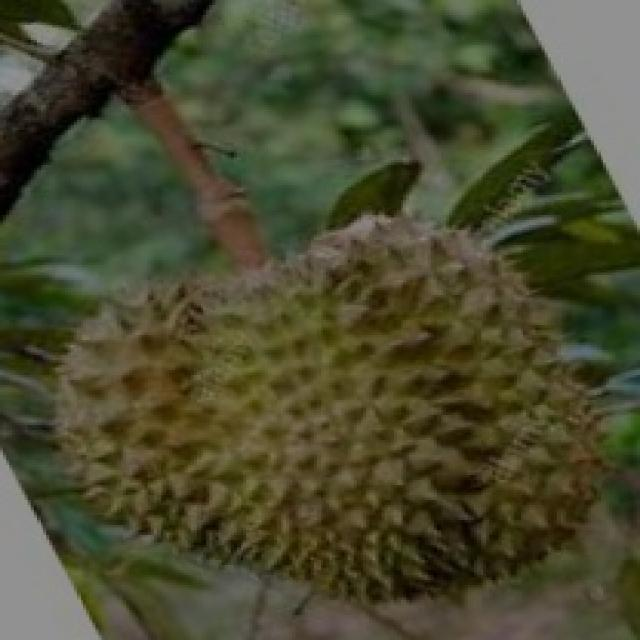fruit: (0, 197, 363, 640), (255, 290, 640, 640)
